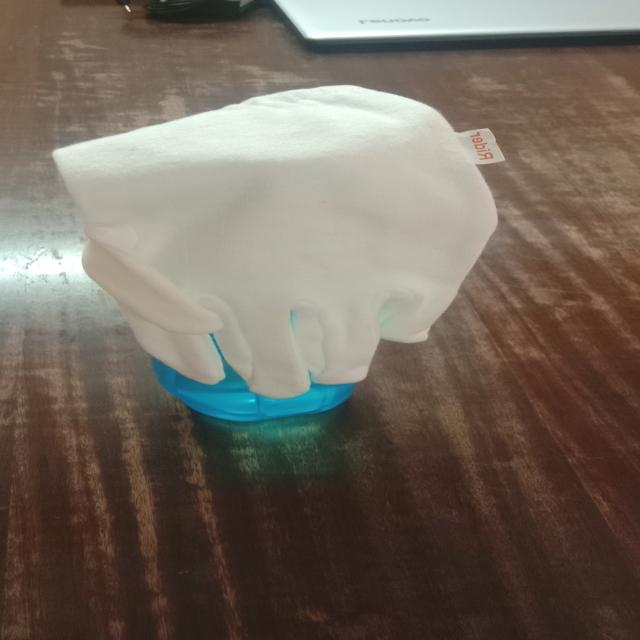glove: (41, 83, 516, 400)
